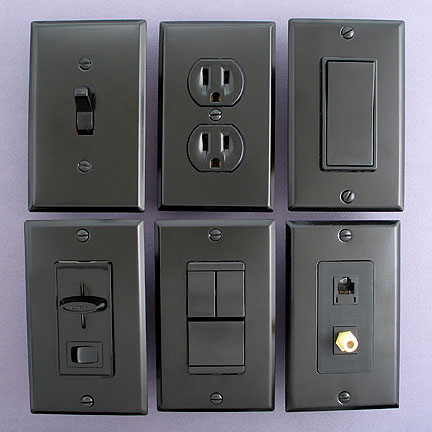outlet: (196, 128, 234, 172), (198, 61, 232, 103)
